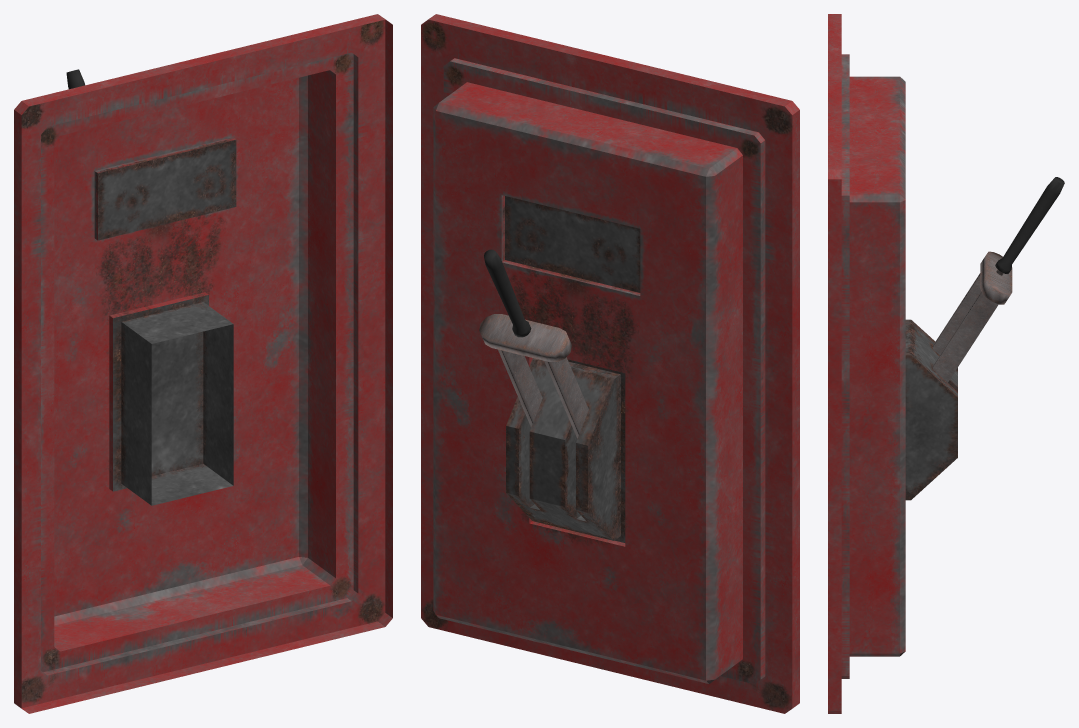
Rendered from old_lever.glb.
The picture shows the model from 3 angles, left to right: view 1: azimuth 30°, elevation 25°; view 2: azimuth 150°, elevation 25°; view 3: azimuth 270°, elevation 25°; orthographic projection. The views are drawn at different scales.
Parts seen in each view (by area): view 1: Panel; view 2: Panel, Lever; view 3: Panel, Lever.
Part boxes in pixels (bbox=[...]): Panel: bbox=[14, 14, 392, 713]; Panel: bbox=[421, 14, 799, 713]; Lever: bbox=[479, 249, 588, 438]; Panel: bbox=[828, 14, 957, 713]; Lever: bbox=[933, 177, 1064, 382].
Bounding box in the file's own units: 0.2637 × 0.4124 × 0.1626.
2 materials, 2 textured.
